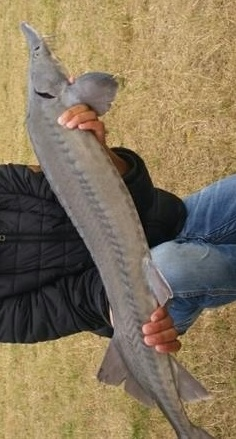Acipenseridae: (20, 20, 216, 439)
